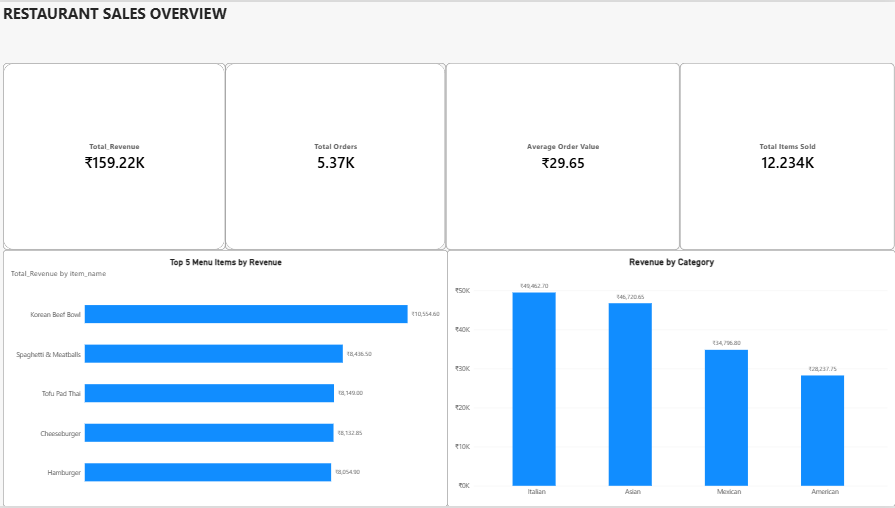

The page's visual inventory and layout, read from the dashboard file:
{"tool":"powerbi","page":{"name":"Restaurant Sales Overview","canvas":[1920,1080],"ordinal":0},"visuals":[{"type":"cardVisual","title":"Total Revenue","fields":{"Data":["Raw_Orders.Total_Revenue"]},"box":[10,129.7,475.7,400],"z":0},{"type":"cardVisual","title":"Total Orders","fields":{"Data":["Raw_Orders.Total Orders"]},"box":[486.5,129.7,473,400],"z":1},{"type":"cardVisual","title":"Average Order Value","fields":{"Data":["Raw_Orders.Average Order Value"]},"box":[959.5,129.7,500,400],"z":2},{"type":"cardVisual","title":"Total Items Sold","fields":{"Data":["Raw_Orders.Total Items Sold"]},"box":[1459.5,129.7,459.5,400],"z":3},{"type":"clusteredBarChart","title":"Top 5 Menu Items by Revenue","fields":{"Category":["Raw_Menu.item_name"],"Y":["DateTable.Total_Revenue"]},"box":[10.7,530.9,952,549.7],"z":4},{"type":"clusteredColumnChart","title":"Revenue by Category","fields":{"Category":["Raw_Menu.category"],"Y":["Raw_Orders.Total_Revenue"]},"box":[960,530.9,960,549.7],"z":5},{"type":"textbox","box":[100,100,1762.2,132.4],"z":6},{"type":"textbox","box":[10.8,2.7,1908.1,229.7],"z":7}]}

Visuals, with their boxes in screenshot pixels (x1, y1, x2, y2), scaled from the page's 1920x1080 canvas onto the 895x508 screenshot:
"Total Revenue" cardVisual: box=[5, 61, 226, 249]
"Total Orders" cardVisual: box=[227, 61, 447, 249]
"Average Order Value" cardVisual: box=[447, 61, 680, 249]
"Total Items Sold" cardVisual: box=[680, 61, 894, 249]
"Top 5 Menu Items by Revenue" clusteredBarChart: box=[5, 250, 449, 507]
"Revenue by Category" clusteredColumnChart: box=[448, 250, 894, 507]
textbox: box=[47, 47, 868, 109]
textbox: box=[5, 1, 894, 109]
